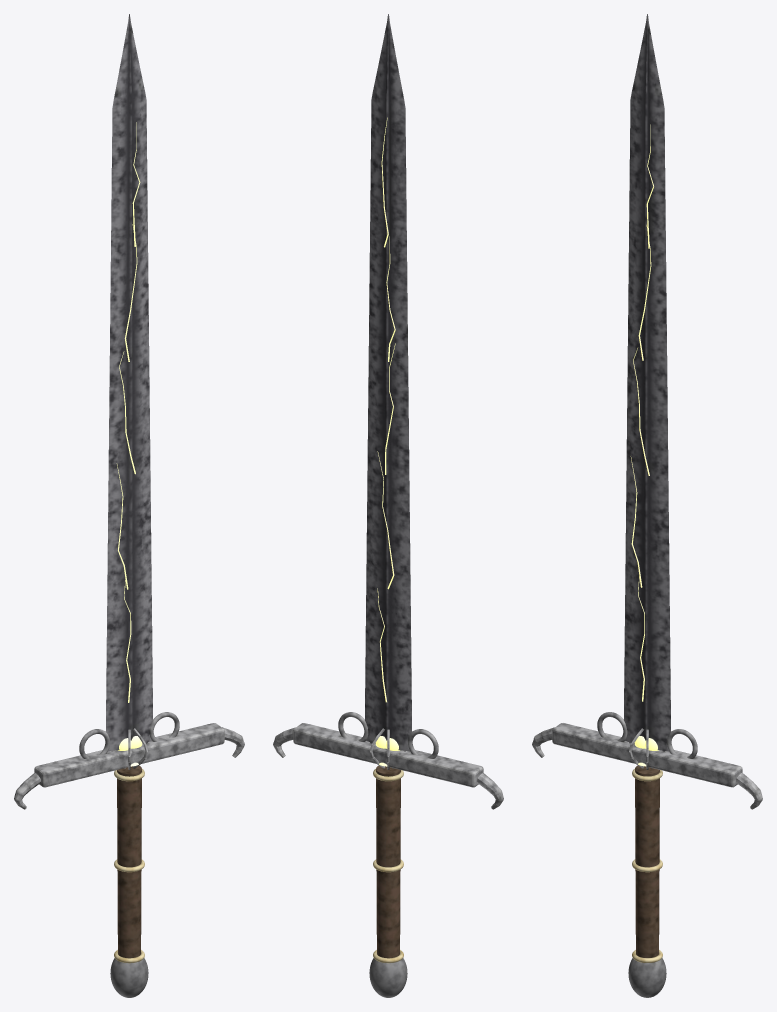
The picture shows the model from 3 angles, left to right: view 1: azimuth 30°, elevation 25°; view 2: azimuth 150°, elevation 25°; view 3: azimuth 330°, elevation 25°; orthographic projection.
Parts seen in each view (by area): view 1: metal_dark, metal_iron, leather_dark, glow_edge, metal_gold; view 2: metal_dark, metal_iron, leather_dark, glow_edge, metal_gold; view 3: metal_dark, metal_iron, leather_dark, glow_edge, metal_gold.
Part boxes in pixels (x1=…): metal_dark: x1=105, y1=14, x2=152, y2=751; metal_iron: x1=14, y1=712, x2=244, y2=997; leather_dark: x1=117, y1=765, x2=141, y2=958; glow_edge: x1=116, y1=122, x2=142, y2=766; metal_gold: x1=114, y1=769, x2=144, y2=963; metal_dark: x1=365, y1=14, x2=412, y2=751; metal_iron: x1=273, y1=712, x2=503, y2=997; leather_dark: x1=376, y1=765, x2=400, y2=958; glow_edge: x1=375, y1=117, x2=399, y2=766; metal_gold: x1=373, y1=769, x2=403, y2=963; metal_dark: x1=624, y1=14, x2=671, y2=751; metal_iron: x1=532, y1=712, x2=762, y2=997; leather_dark: x1=635, y1=765, x2=659, y2=957; glow_edge: x1=630, y1=124, x2=658, y2=766; metal_gold: x1=632, y1=769, x2=662, y2=962.
Size of the model in its own units: 0.5291 by 2.16 by 0.076.
5 materials, 4 textured.
